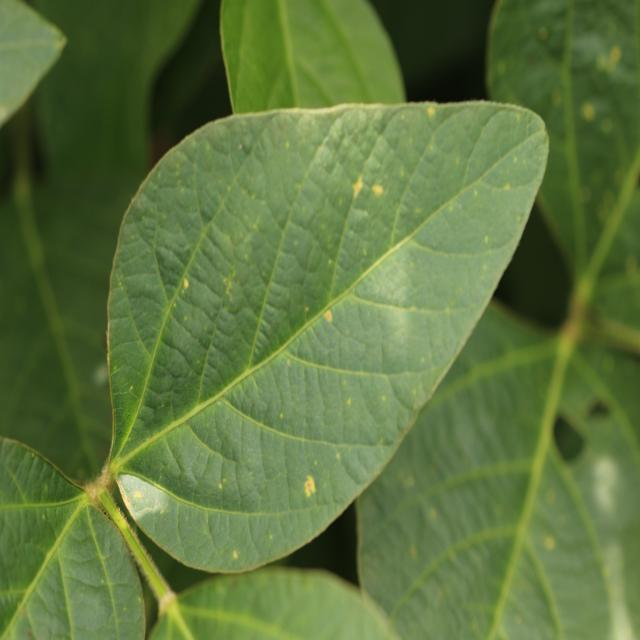Soybean: (0, 101, 550, 640)
downey_mildew: (114, 372, 387, 566), (312, 108, 532, 344), (113, 137, 256, 454), (376, 341, 565, 510), (290, 265, 466, 410), (222, 137, 327, 380), (212, 334, 398, 457), (265, 276, 379, 401), (295, 112, 395, 236), (384, 454, 550, 521), (163, 237, 239, 378), (167, 390, 268, 496), (446, 108, 550, 206), (406, 182, 524, 266), (106, 314, 161, 461), (0, 439, 85, 524), (351, 243, 457, 309), (20, 538, 80, 637), (270, 337, 408, 379), (348, 287, 476, 323), (245, 223, 294, 304), (62, 532, 118, 590), (198, 218, 241, 287), (155, 236, 197, 293), (151, 437, 185, 485)
